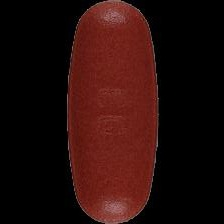68258-6972: (0, 0, 224, 224)
